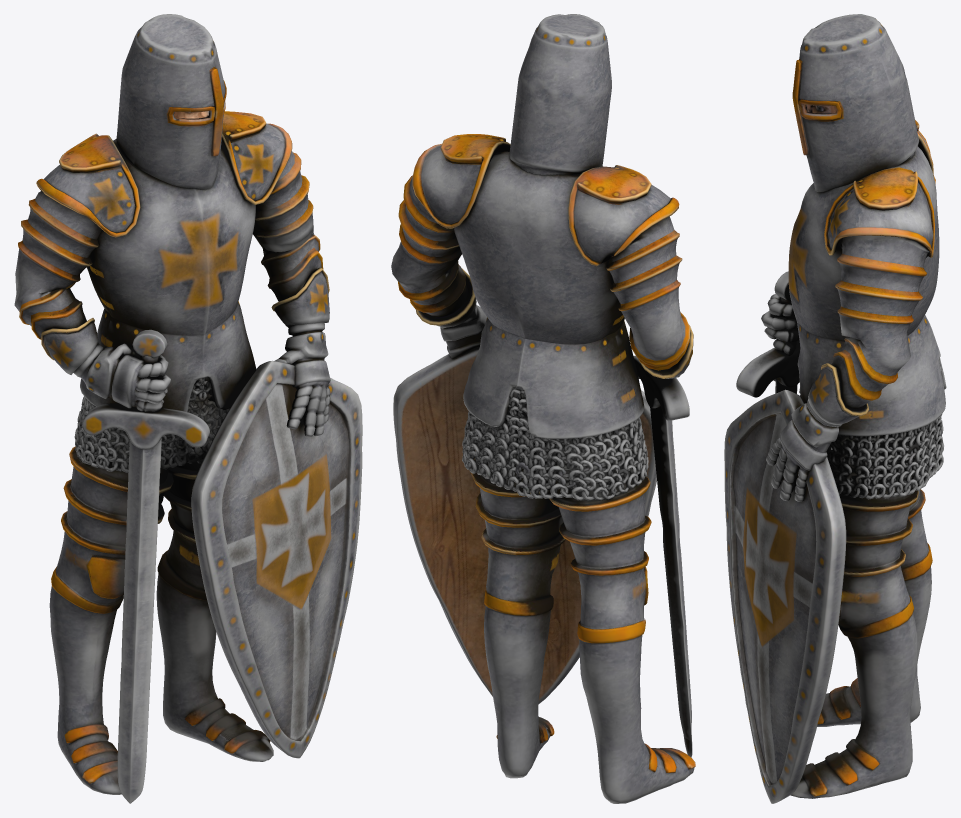
3 views of the same model, side by side, from view 1: azimuth 30°, elevation 25°; view 2: azimuth 150°, elevation 25°; view 3: azimuth 270°, elevation 25° (orthographic). The views are drawn at different scales.
Parts seen in each view (by area): view 1: Upper, Lower; view 2: Upper, Lower; view 3: Lower, Upper.
Part boxes in pixels (left/top/right/bottom): Upper: left=14, top=14, right=330, bottom=803; Lower: left=49, top=360, right=362, bottom=794; Upper: left=391, top=14, right=693, bottom=757; Lower: left=393, top=346, right=695, bottom=803; Lower: left=724, top=366, right=943, bottom=803; Upper: left=736, top=14, right=946, bottom=501.
Bounding box in the file's own units: 95.13 × 210 × 57.07.
Materials: 2 (2 with a texture image).
